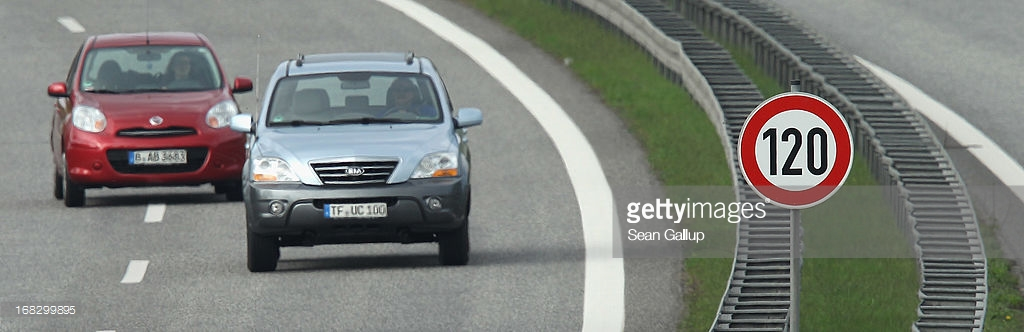Speed_limit_120km: (732, 91, 855, 210)
car: (230, 53, 487, 272), (41, 27, 257, 205)
